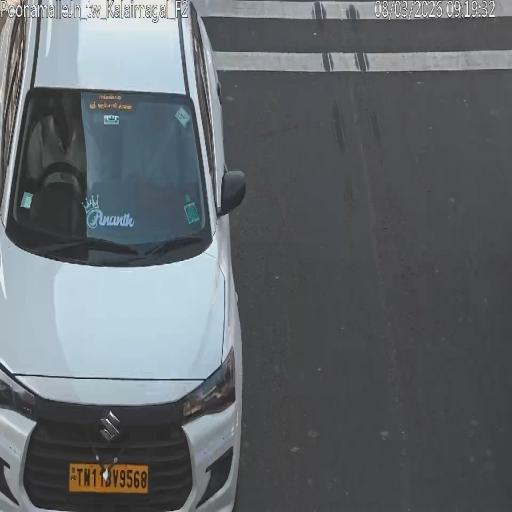person_with_seatbelt: (38, 115, 76, 183)
